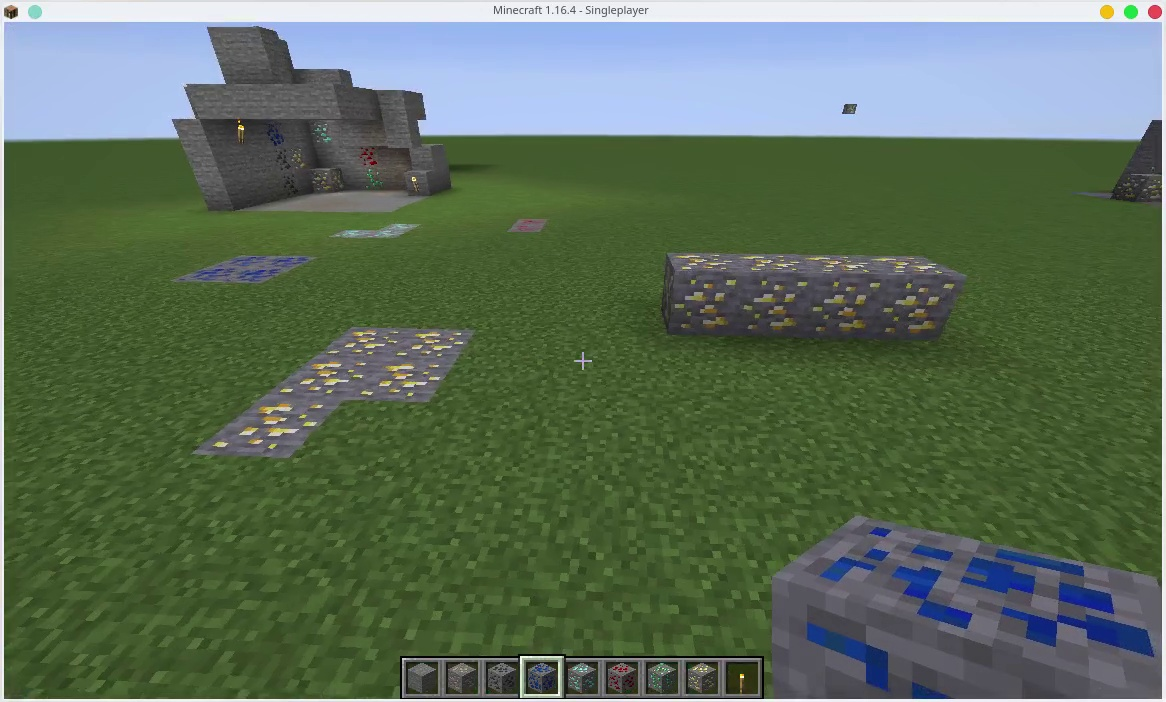gold: (814, 249, 882, 348), (218, 388, 314, 454), (681, 256, 751, 332), (893, 258, 957, 341), (761, 248, 798, 336), (302, 362, 370, 404), (383, 361, 432, 408), (410, 325, 467, 360), (341, 325, 401, 355), (1112, 173, 1159, 202), (314, 166, 344, 194), (687, 663, 715, 692), (290, 151, 308, 172)
